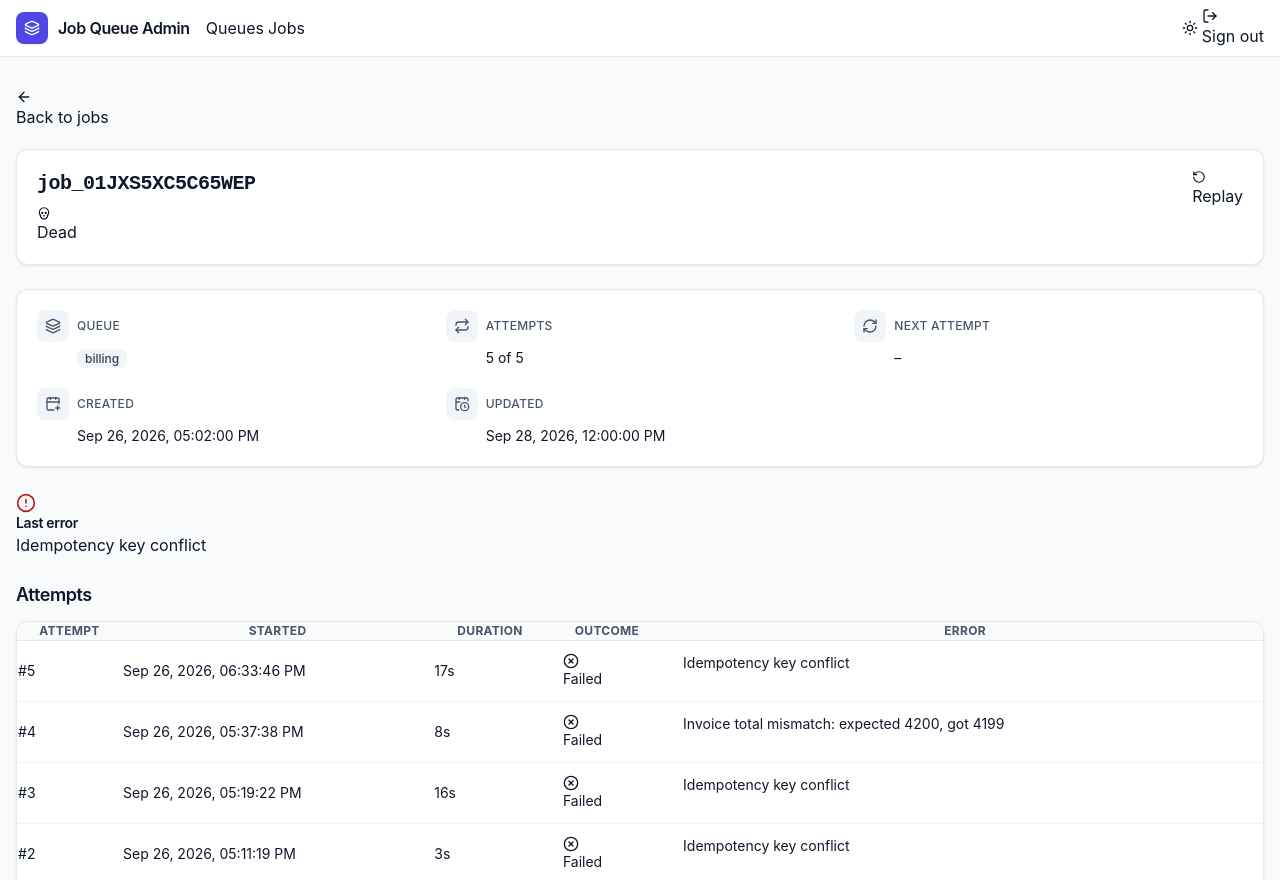
Test: job detail › refreshes the job when the action is no longer valid (409)
Click the button "Replay" at [1218, 189], box [1192,170,1243,208]
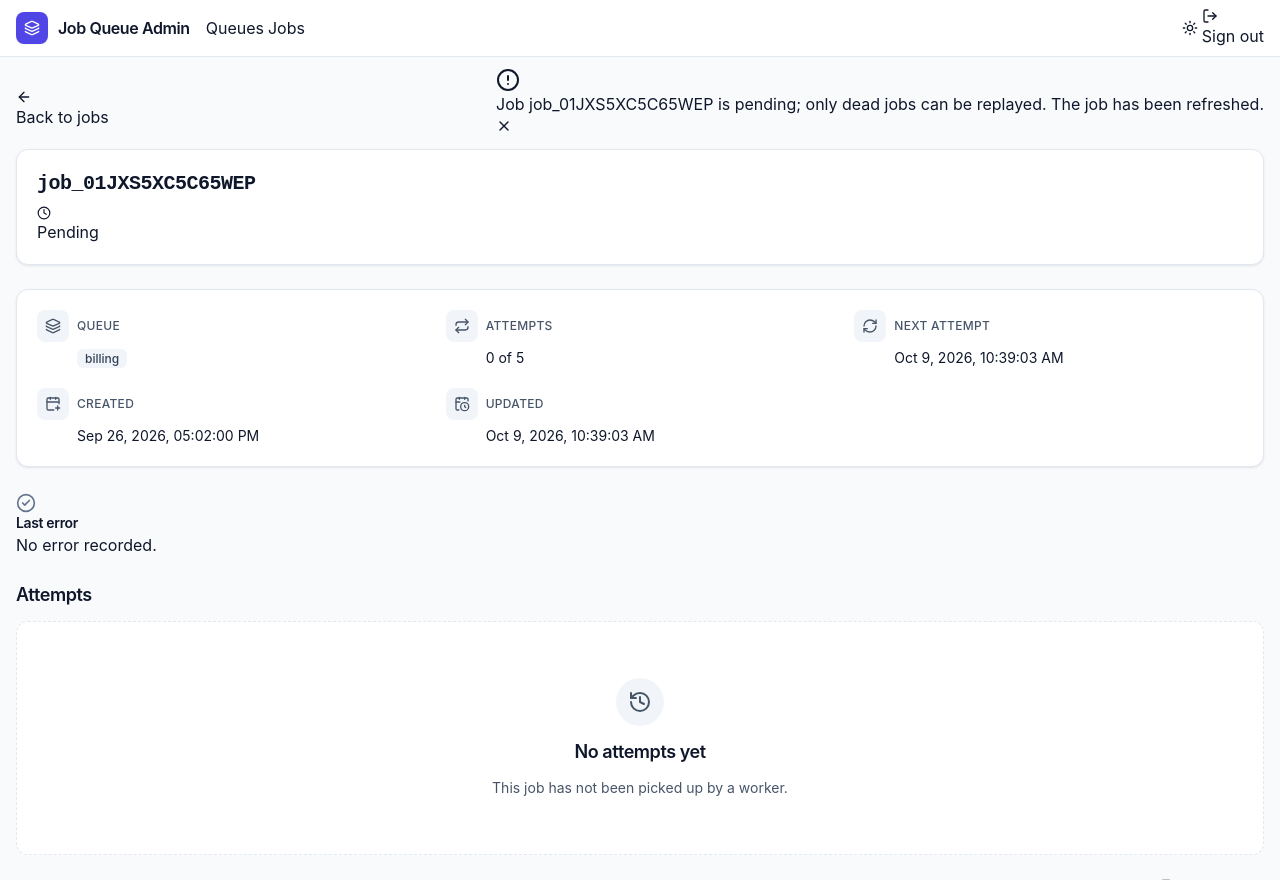
expect the message shows "only dead jobs can be replayed": met, box [496,94,1264,114]
expect the text "Pending" is shown: met, box [37,206,99,242]
